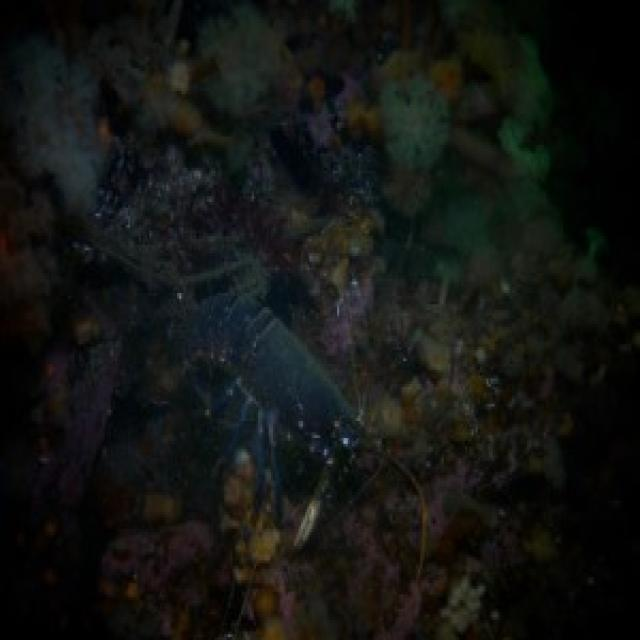lobsters: (48, 121, 458, 583)
